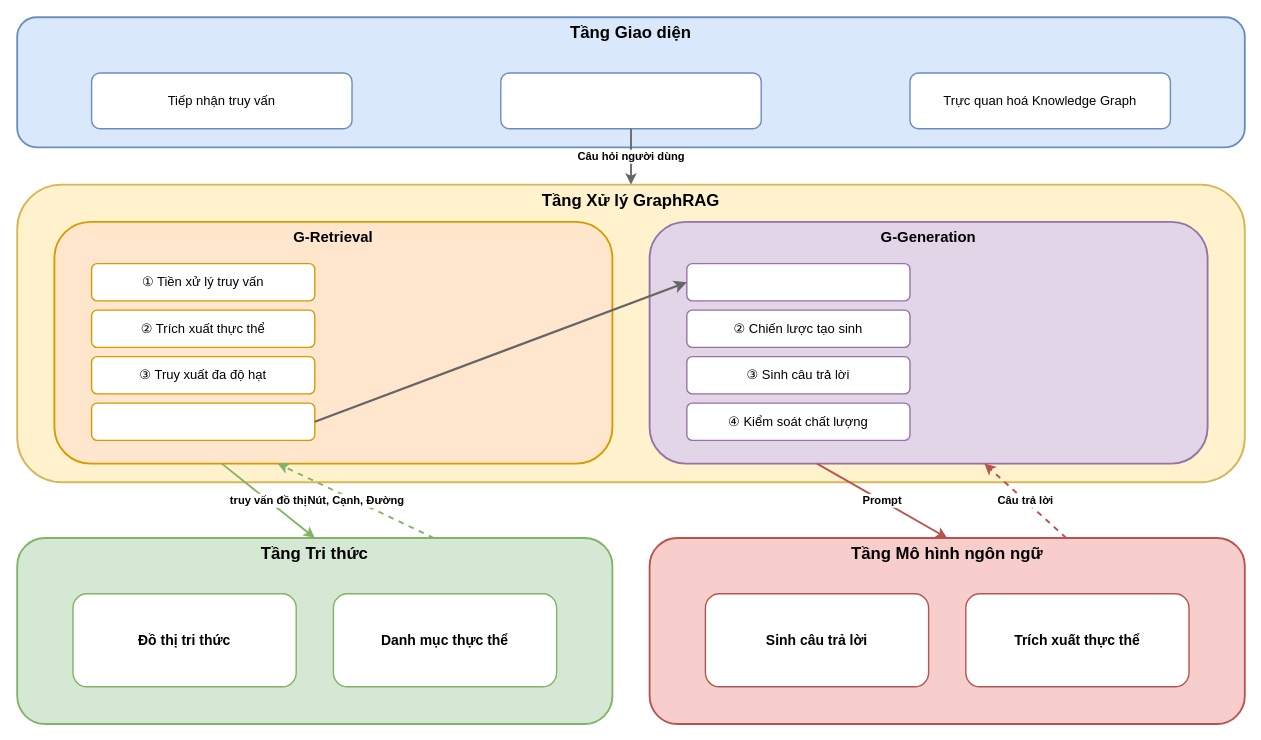
This 1261x740 diagram has some shape labels left out. The shapes that lost their labels are listed below. From the top down, each one's centre as x and y in pixels, then its label:
the point at 630,100: Hiển thị câu trả lời
the point at 798,282: ① Xây dựng Prompt
the point at 202,421: ④ Tổ chức ngữ cảnh
